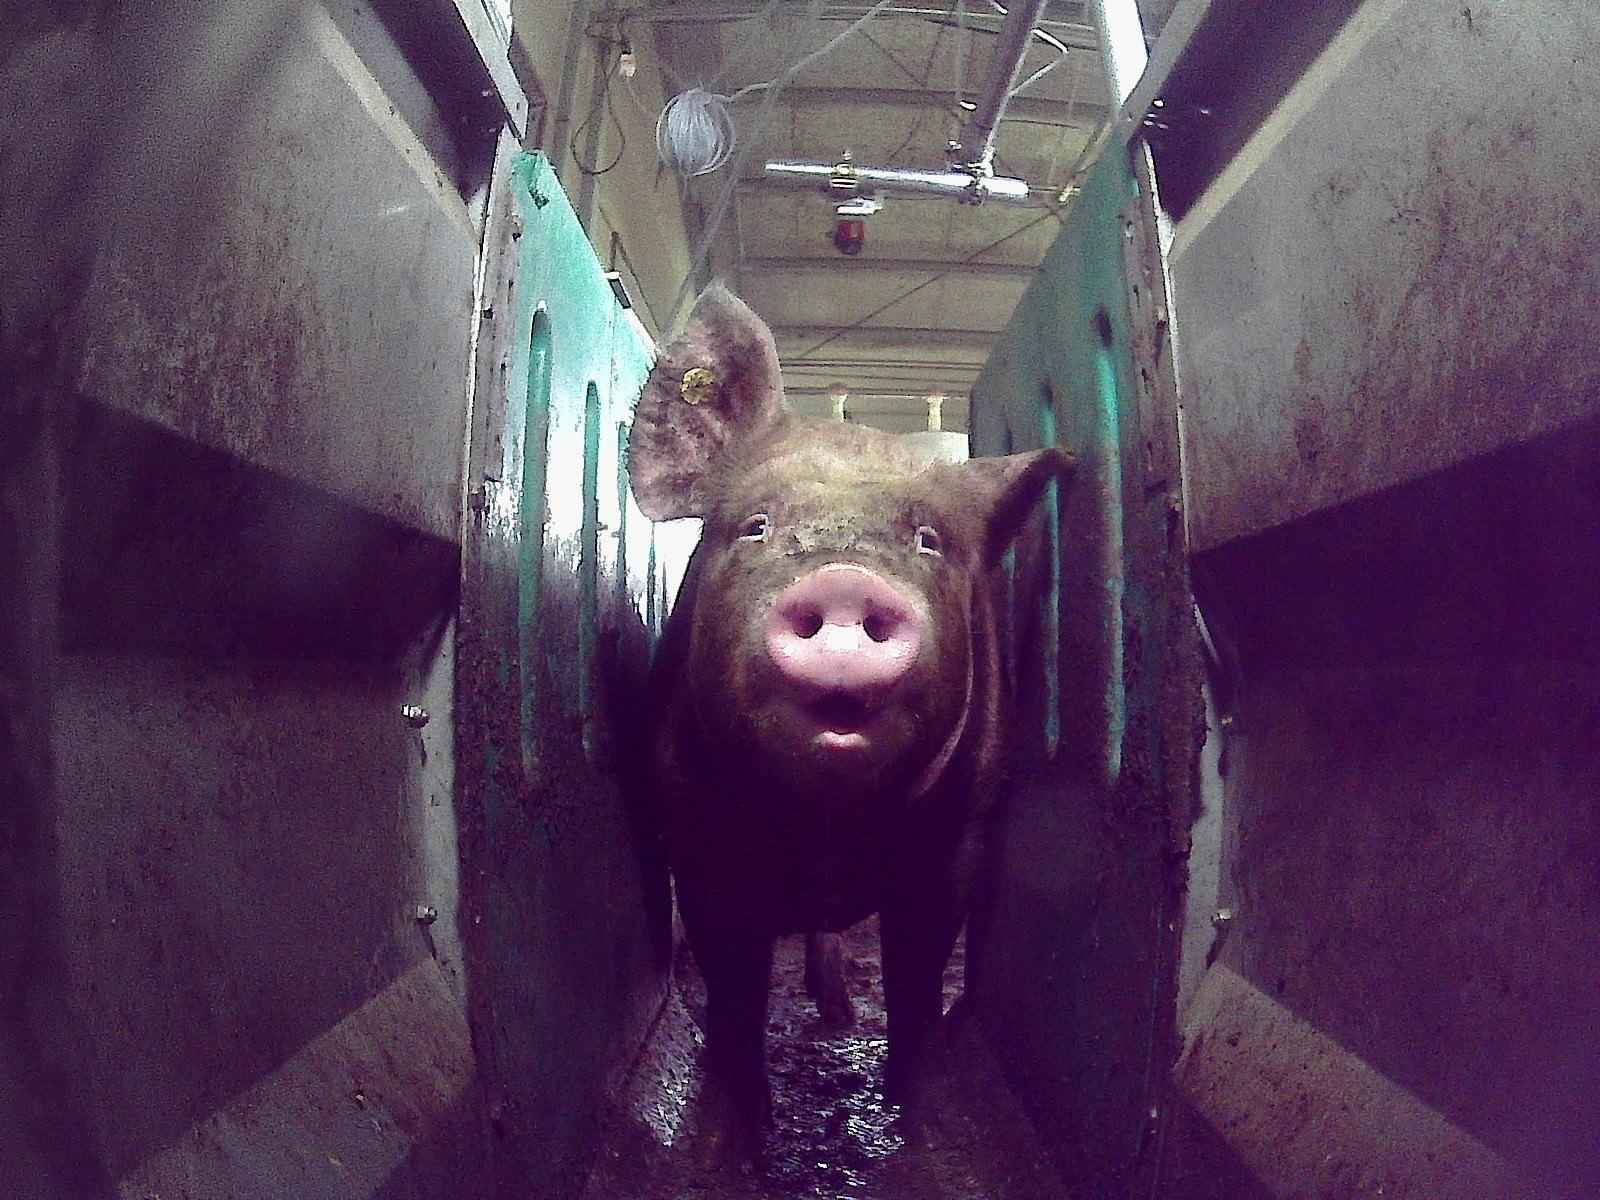Face: (691, 424, 975, 798)
